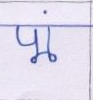anusvara: (43, 11, 47, 14)
